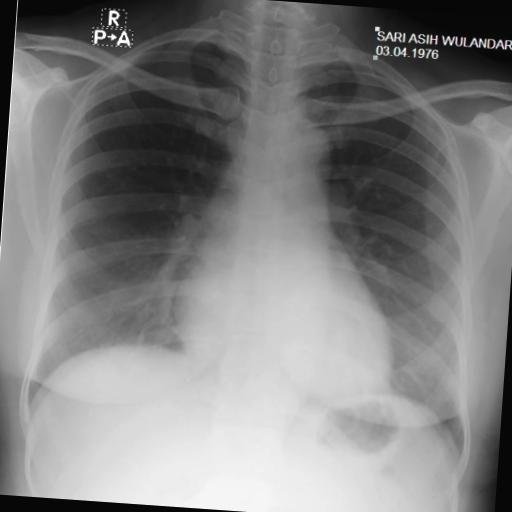normal: (15, 0, 502, 476)
